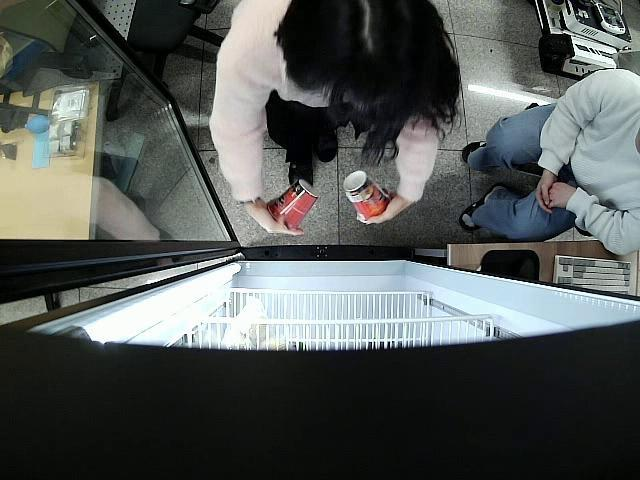02_shinRamen_S: (266, 178, 320, 232), (342, 169, 388, 218)
